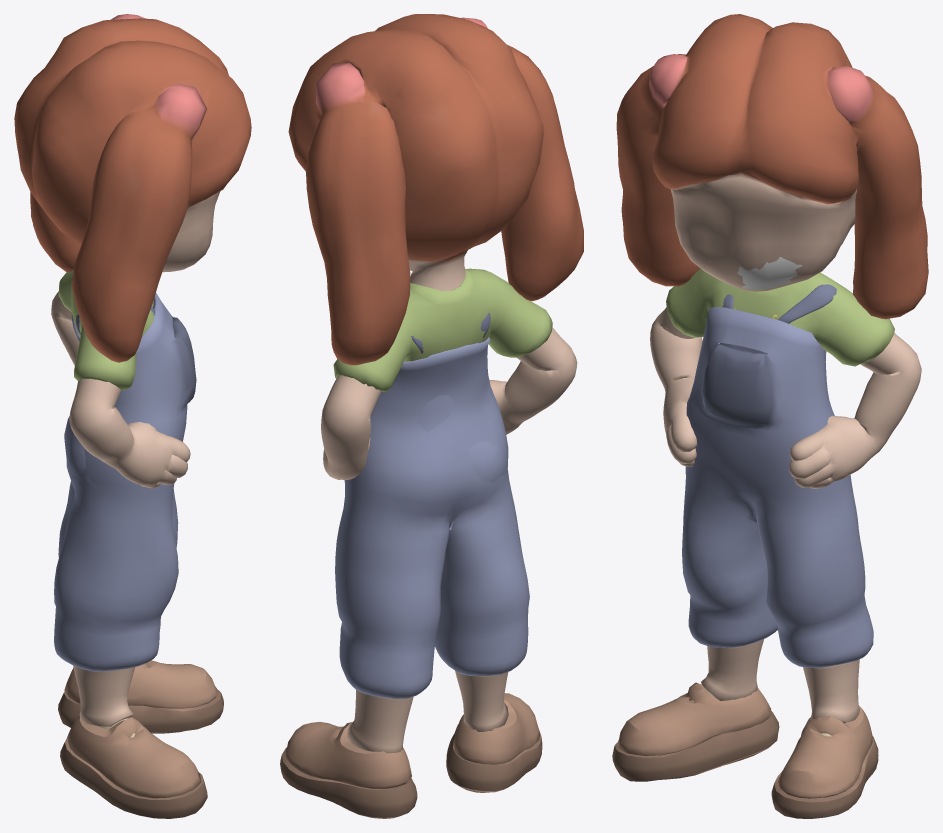
The picture shows the model from 3 angles, left to right: view 1: azimuth 30°, elevation 25°; view 2: azimuth 150°, elevation 25°; view 3: azimuth 270°, elevation 25°; orthographic projection. The views are drawn at different scales.
Parts seen in each view (by area): view 1: Arms.023; view 2: Arms.023; view 3: Arms.023.
Part boxes in pixels (box(x1,y1,x2,y2)): Arms.023: box(14, 14, 251, 818); Arms.023: box(280, 14, 583, 818); Arms.023: box(612, 14, 928, 818).
Bounding box in the file's own units: 50.97 × 168 × 64.23.
